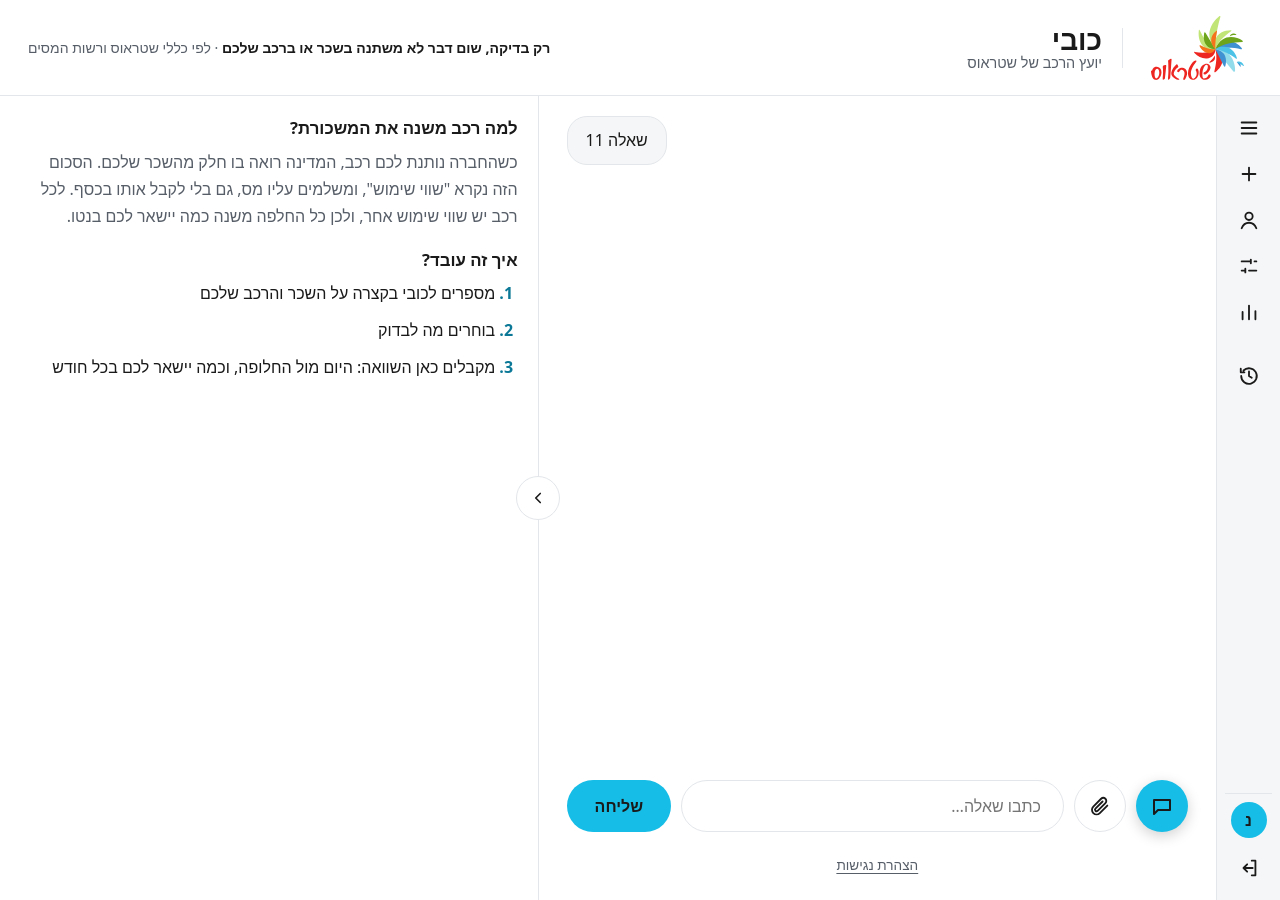
Test case: the sidebar on a computer › the conversations: newest first, the open one marked, a click opens one
What coordinates should you click on to do the following:
click the button named "סרגל הצד"
I would click on:
 (1248, 128)
Its box is [1225,106,1272,150].
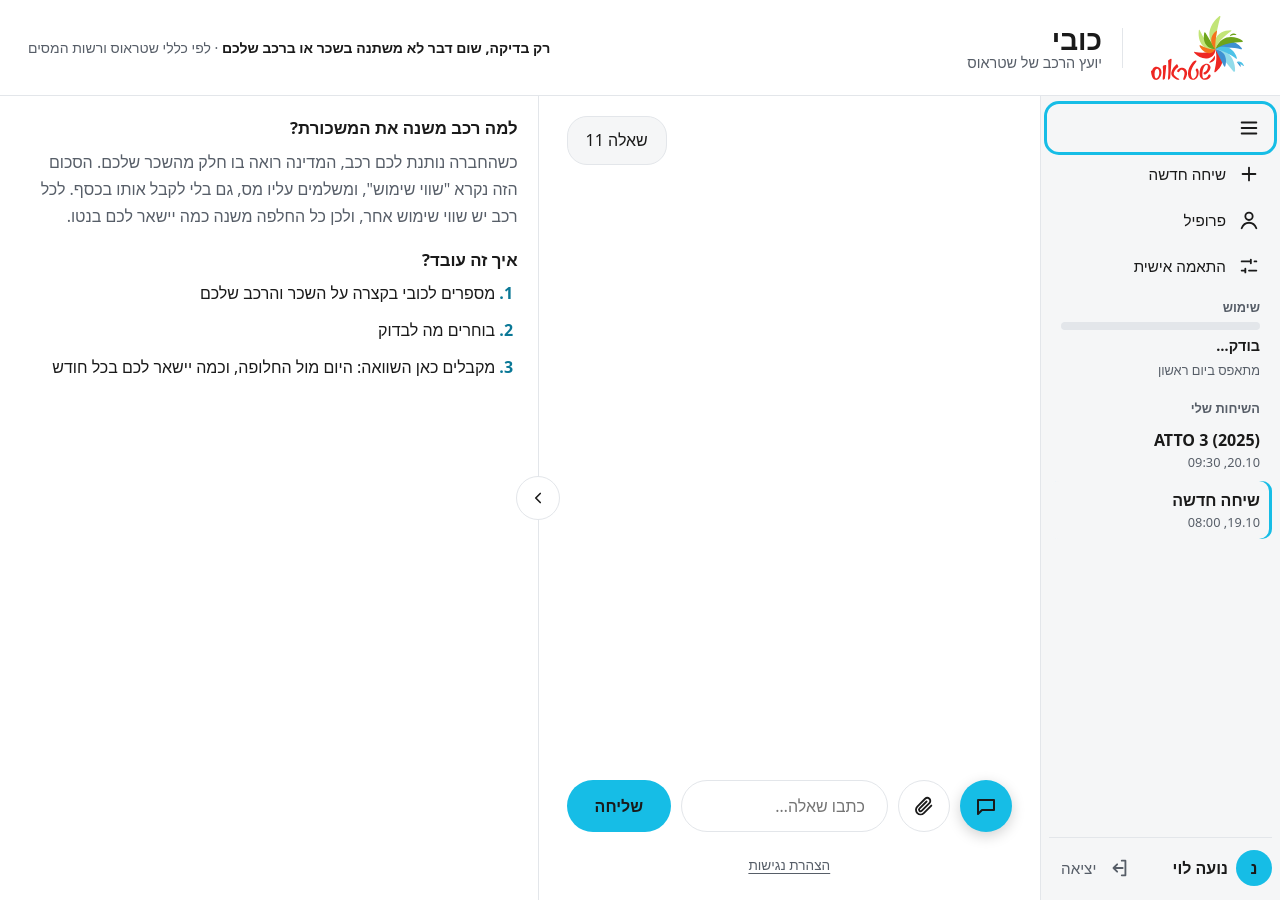
Check: the button "ATTO 3 (2025) 20.10, 09:30" is shown
Check: the button "שיחה חדשה 19.10, 08:00" is shown, box [1049,481,1272,539]
What coordinates should you click on to do the following:
click the button "ATTO 3 (2025) 20.10, 09:30"
I would click on:
 (1160, 450)
Its box is [1049,421,1272,479].
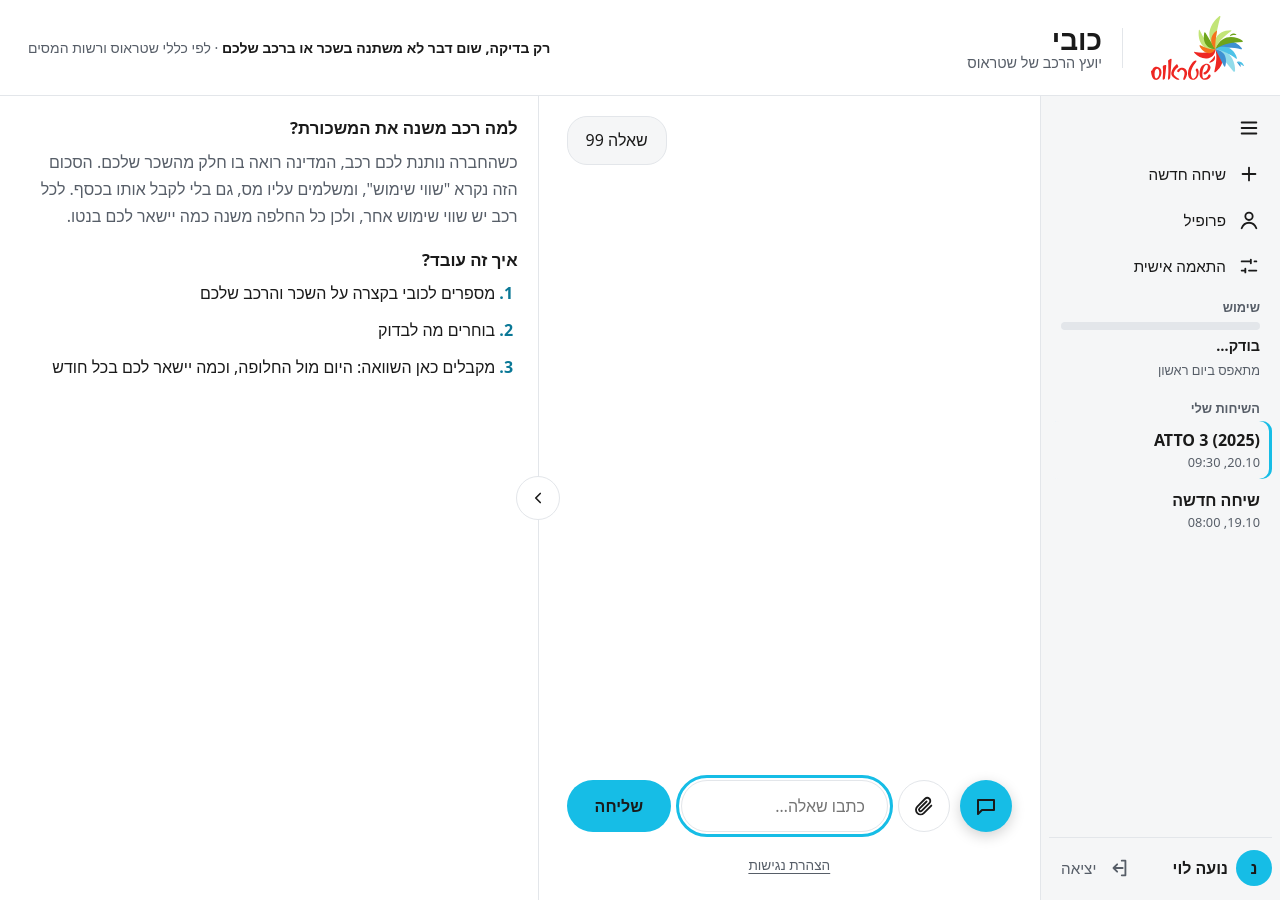
Check: the list item "שאלה 99" is shown, box [567,116,667,165]
